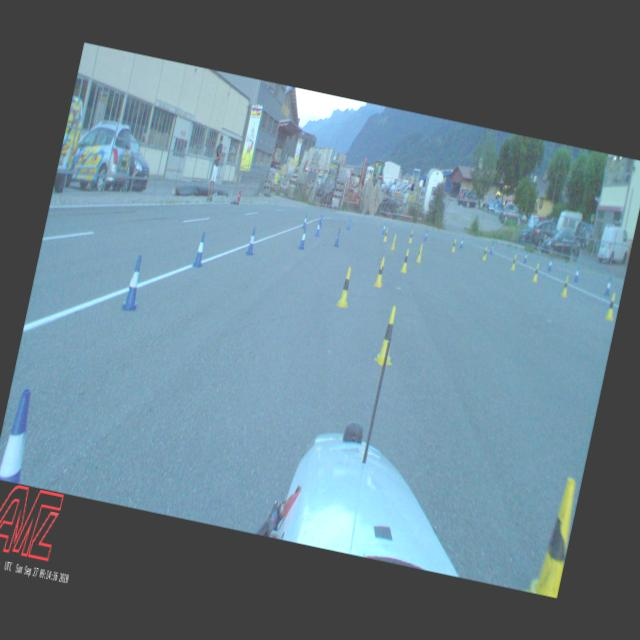blue_cone: (0, 386, 37, 483), (120, 254, 146, 313), (192, 231, 208, 267), (246, 227, 258, 255), (298, 228, 308, 250), (604, 276, 612, 296), (334, 227, 342, 247), (314, 220, 321, 237), (574, 266, 580, 282), (346, 217, 352, 230), (547, 258, 553, 270), (488, 243, 494, 254), (381, 222, 386, 234), (302, 214, 307, 226), (423, 230, 428, 242), (524, 251, 528, 263), (460, 237, 464, 248)
yellow_cone: (529, 474, 581, 598), (373, 304, 402, 366), (336, 265, 355, 307), (374, 255, 386, 288), (605, 292, 618, 321), (400, 248, 410, 272), (560, 274, 570, 296), (531, 262, 540, 282), (416, 243, 424, 263), (510, 253, 518, 270), (390, 233, 397, 250), (481, 245, 488, 260), (451, 238, 457, 252), (383, 228, 389, 242), (408, 230, 413, 243)
